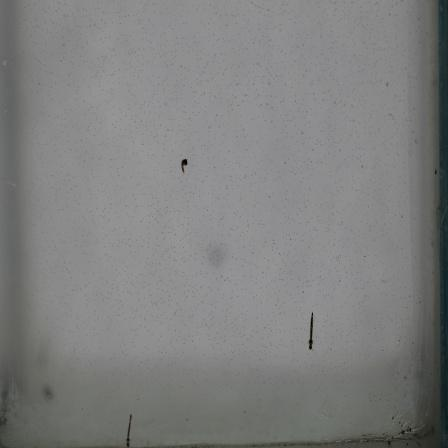Jentik-Nyamuk: (304, 307, 317, 352), (122, 410, 137, 448), (176, 153, 191, 175)
